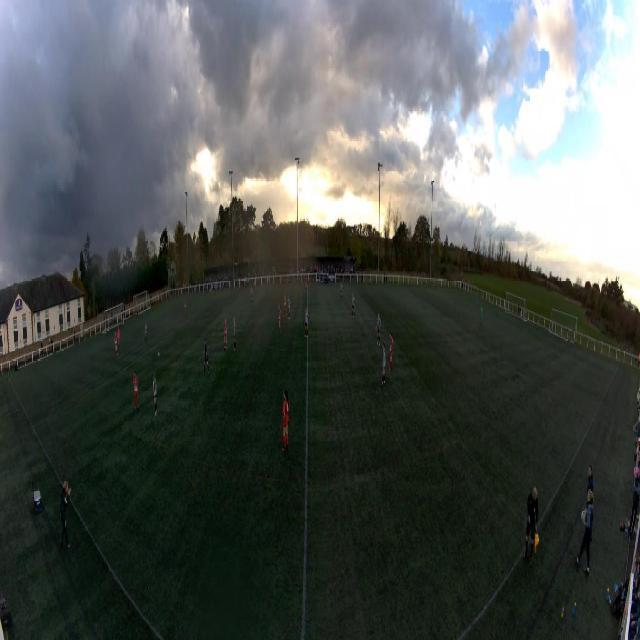ball: (158, 352, 160, 358)
player: (282, 392, 290, 447), (133, 370, 139, 412), (203, 337, 209, 375), (152, 373, 157, 414), (381, 344, 386, 385), (376, 314, 381, 346), (389, 331, 393, 371), (304, 308, 309, 337), (224, 319, 228, 351), (278, 305, 282, 336), (351, 293, 355, 319), (287, 294, 291, 320), (233, 318, 236, 352), (283, 293, 287, 318), (114, 332, 118, 357), (339, 283, 343, 300), (145, 321, 148, 343), (480, 305, 483, 326), (117, 327, 120, 347), (250, 287, 253, 305), (305, 276, 308, 292), (254, 278, 257, 293), (184, 298, 186, 315)
